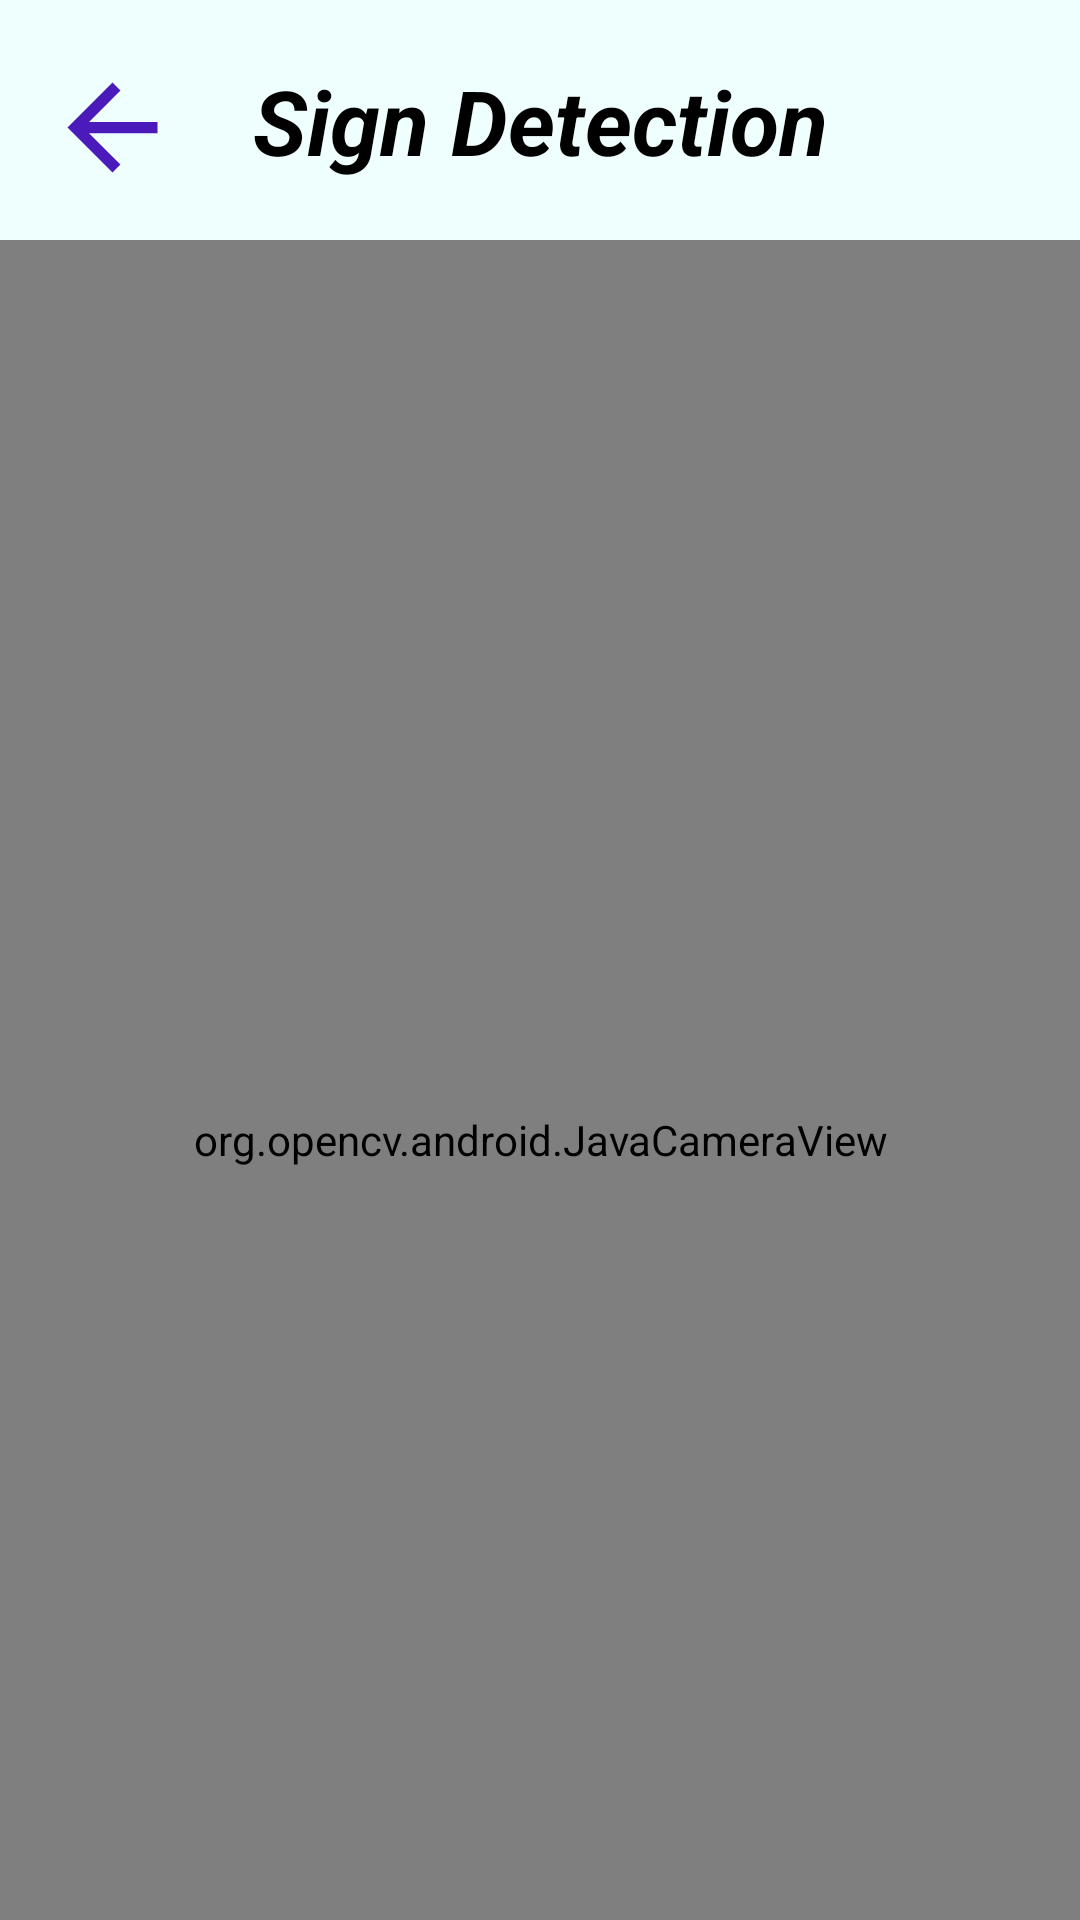

Point at icon controls on the screen. Image size 1080px x 1920px, points as [x,y].
arrow back: [112,127]
